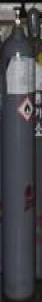cylinder: (1, 1, 42, 302)
